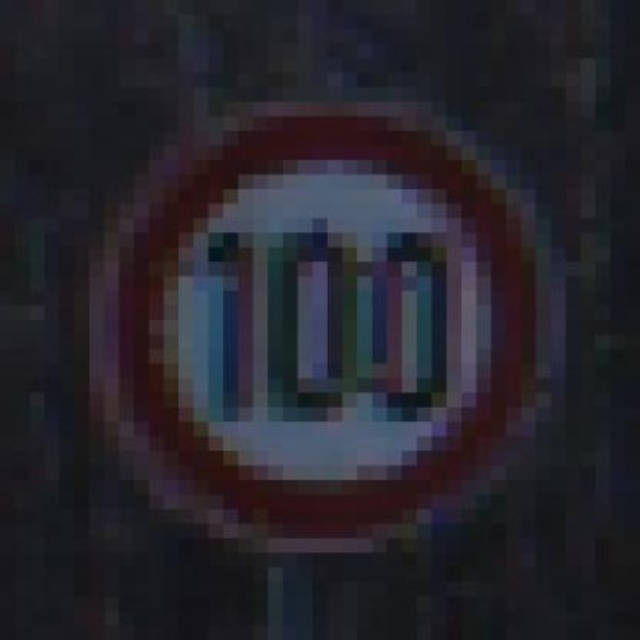Tốc độ tối đa cho phép 100km/h: (115, 122, 535, 537)
